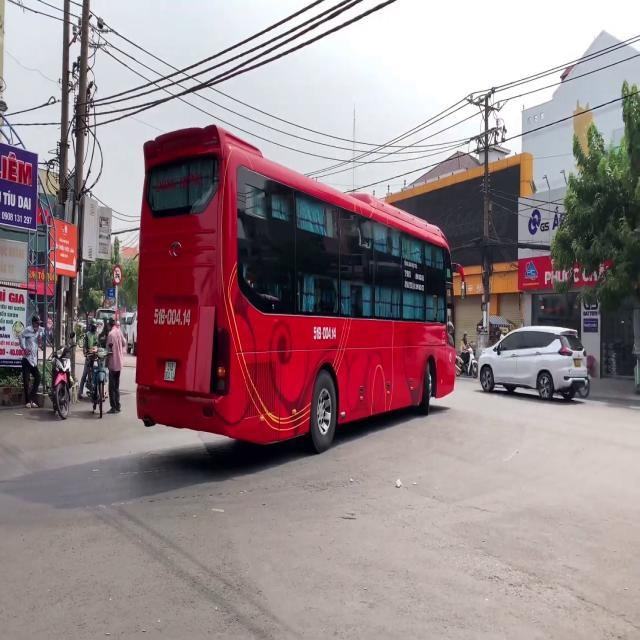bien_trang: (164, 360, 176, 382)
